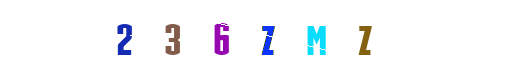2: (143, 0, 223, 80)
3: (181, 0, 261, 80)
6: (200, 0, 280, 80)
M: (220, 0, 300, 80)
Z: (218, 0, 298, 80), (277, 0, 357, 80)
